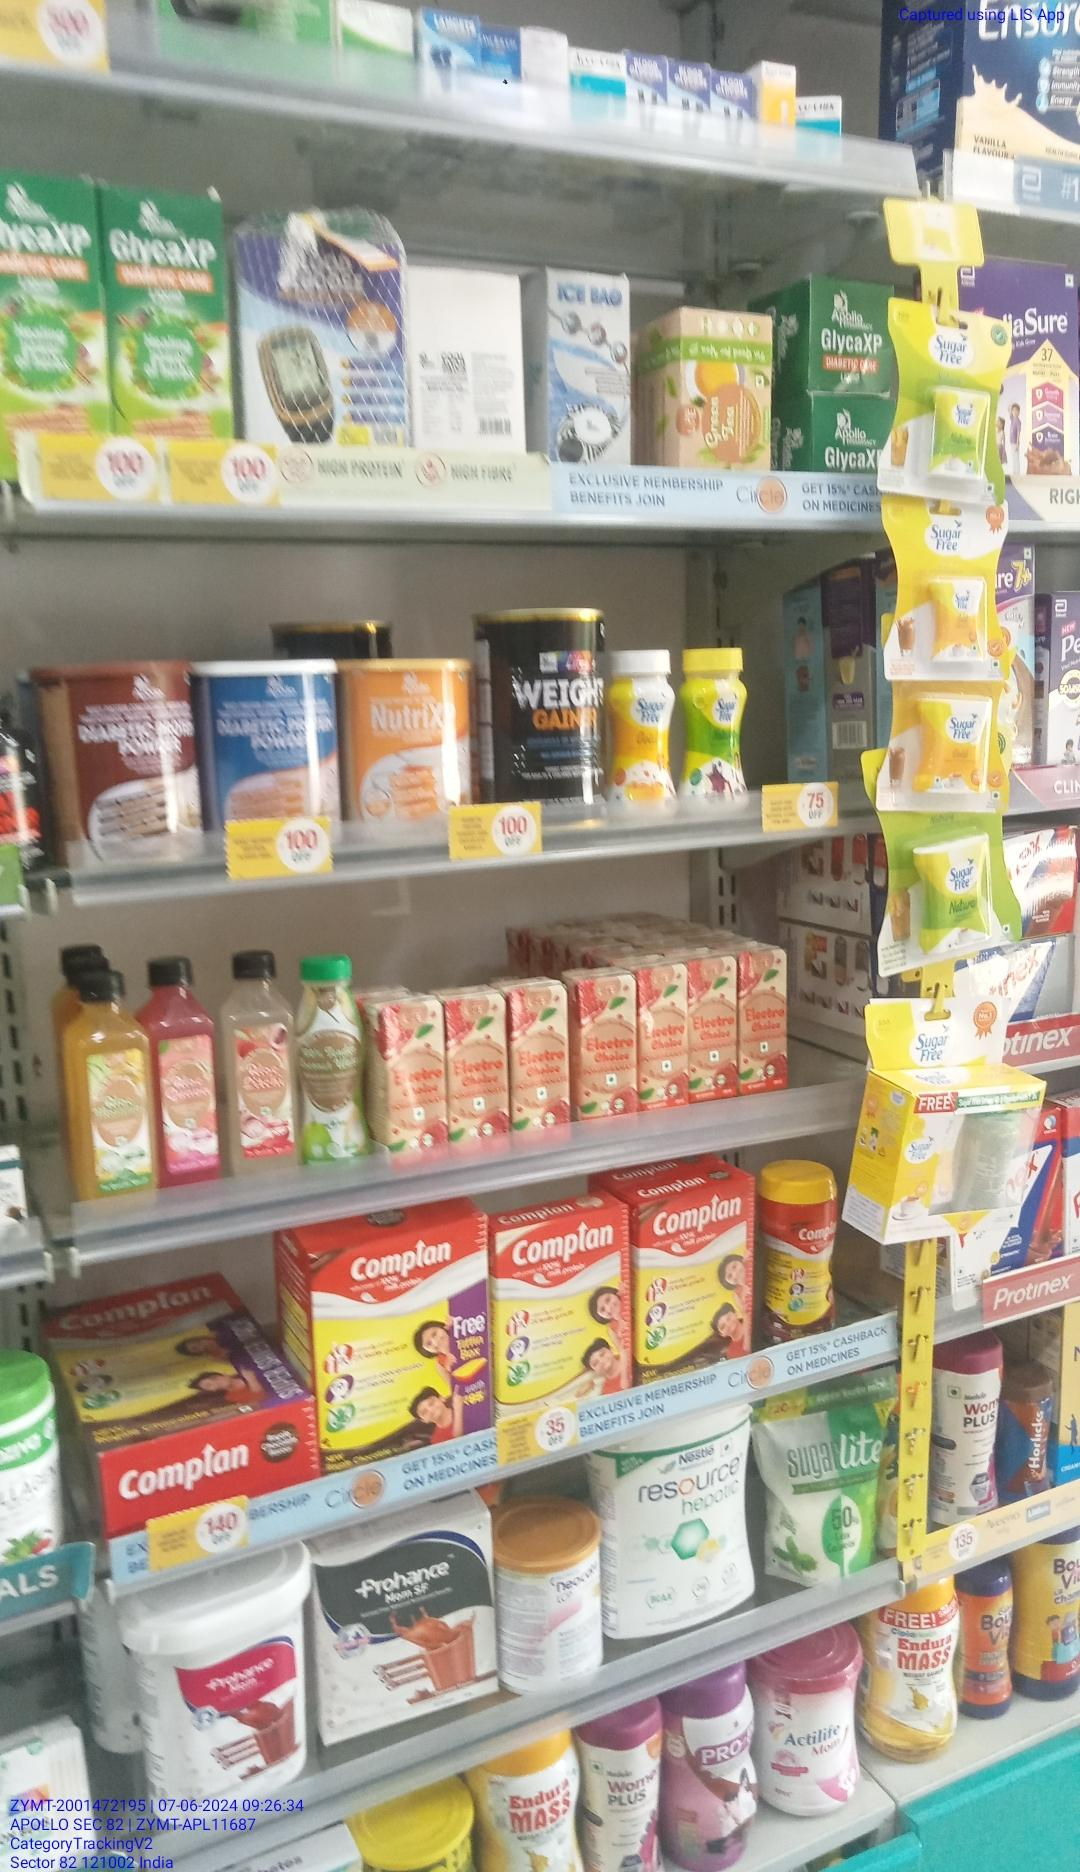BOURN_VITA_200_G_JAR: (971, 1572, 1016, 1720)
BOURN_VITA_CHAMPS_500_G_JAR: (1018, 1531, 1080, 1706)
COMPLAN_CHOCOLATE_200_GMS_PACK: (640, 1193, 753, 1385)
COMPLAN_CHOCOLATE_500_GMS_JAR: (770, 1166, 842, 1344)
COMPLAN_CHOCOLATE_500_GMS_PACK: (314, 1233, 481, 1468)
COMPLAN_KESAR_BADAM_200_GMS_PACK: (494, 1228, 634, 1407)
